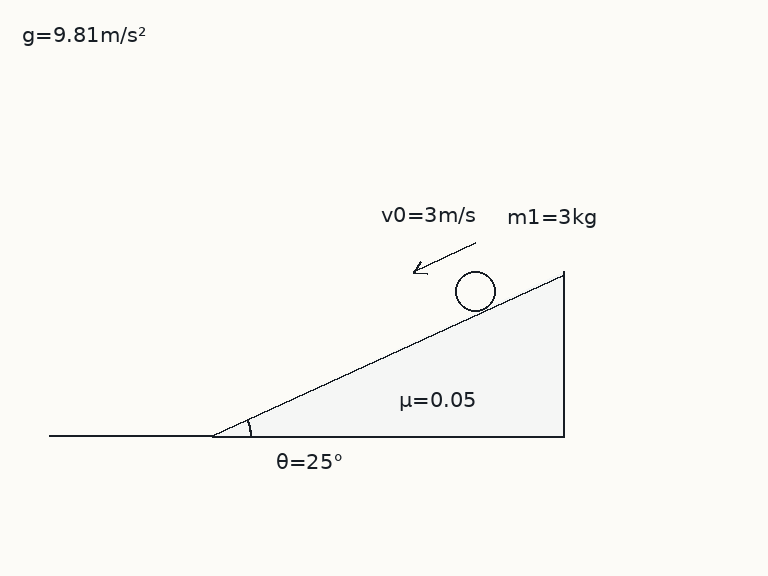ball: (453, 269, 497, 313)
ramp: (209, 270, 565, 438)
